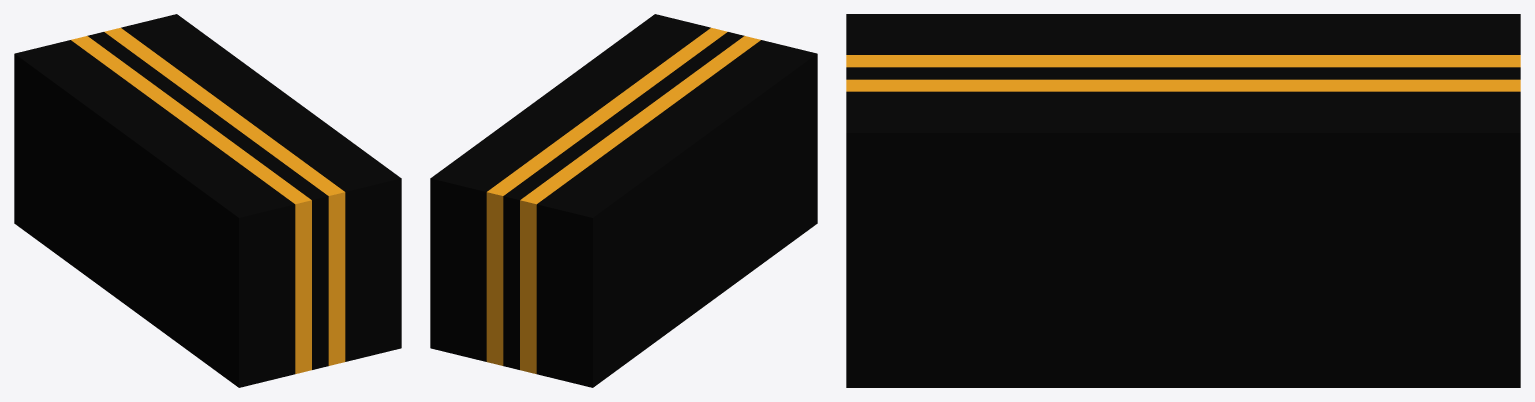
File: Haybale.fbx
3 views of the same model, side by side, from view 1: azimuth 30°, elevation 25°; view 2: azimuth 150°, elevation 25°; view 3: azimuth 270°, elevation 25° (orthographic). The views are drawn at different scales.
Parts seen in each view (by area): view 1: Cube; view 2: Cube; view 3: Cube.
Part boxes in pixels (bbox=[...]): Cube: bbox=[14, 14, 401, 387]; Cube: bbox=[430, 14, 817, 387]; Cube: bbox=[846, 14, 1520, 387].
Size of the model in its own units: 200 by 200 by 479.
